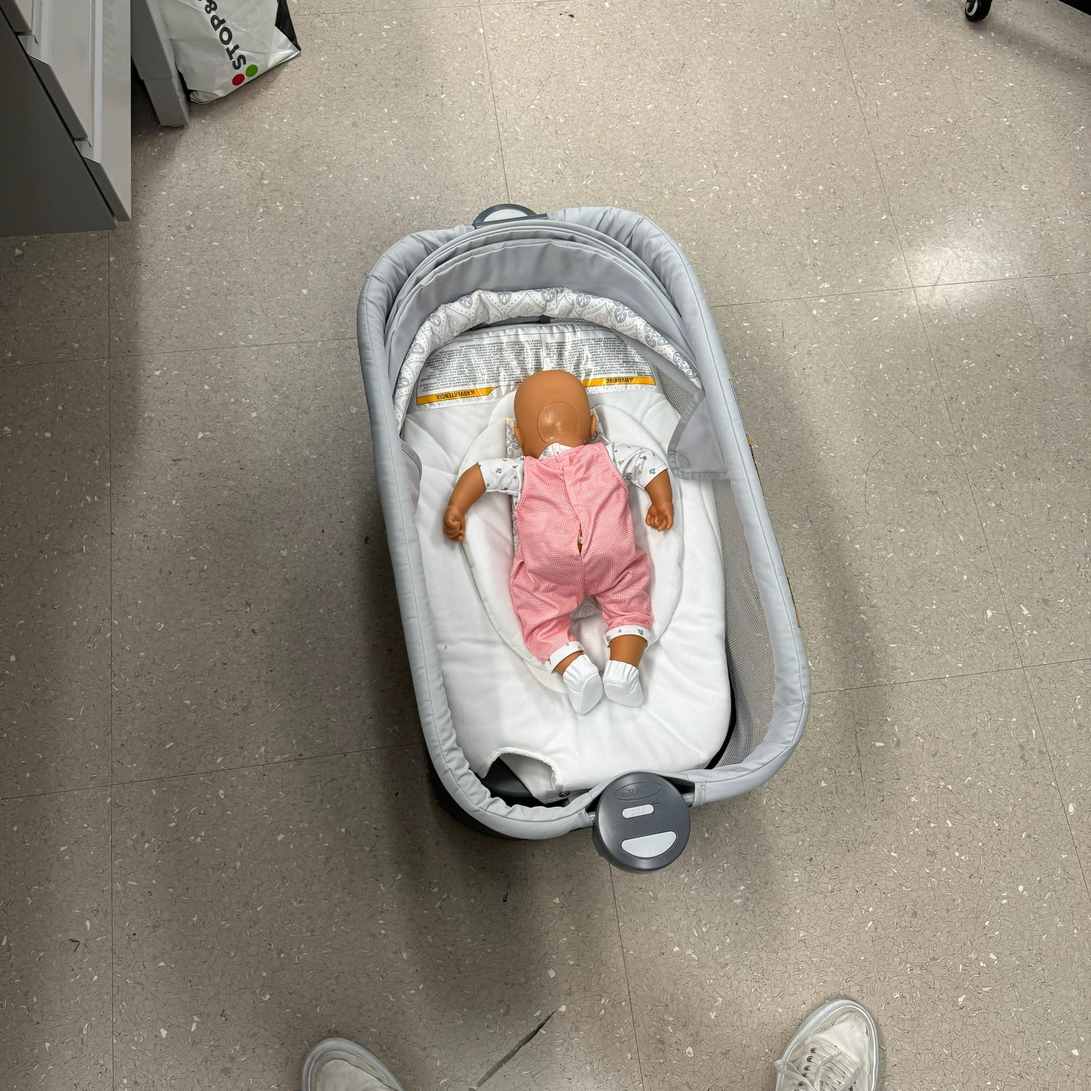baby: (432, 364, 686, 715)
